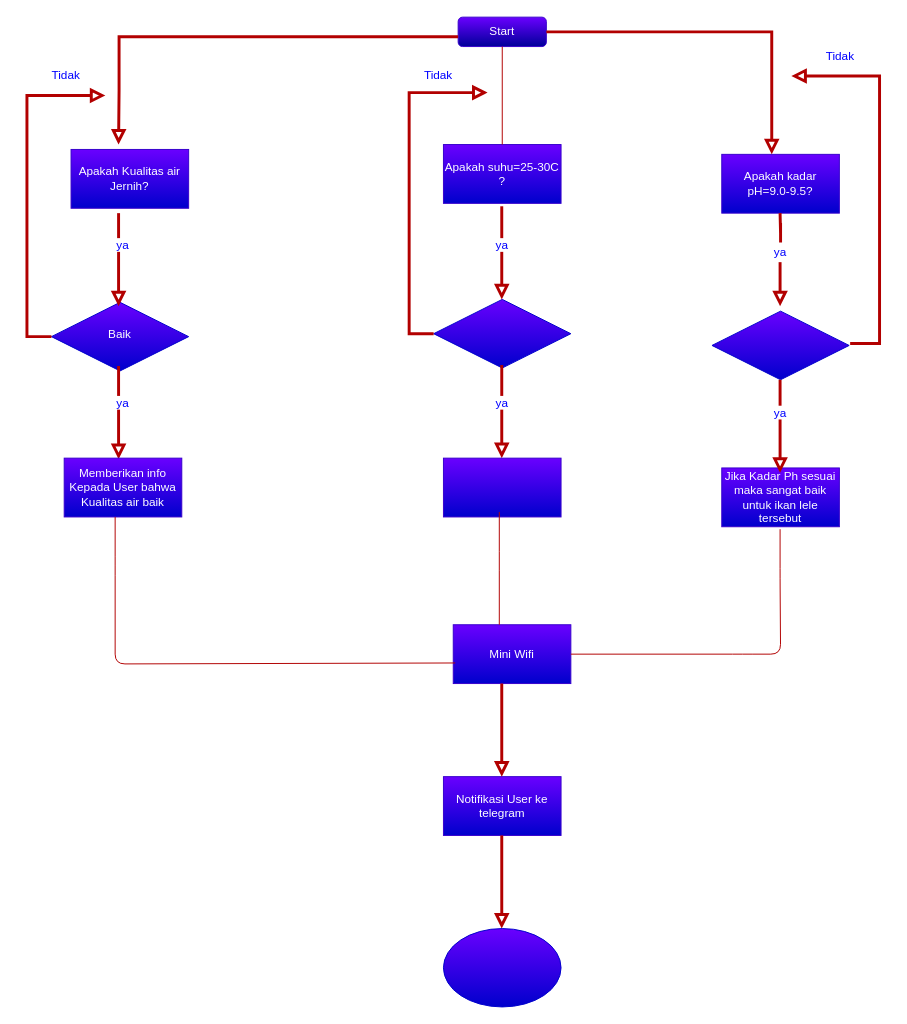
Some shapes in this 907 by 1024 pixel diagram are drawn without their labels. The shapes that lost their labels are listed below. From the top down, each one's box as (x1, y1, x2, y2) in pixels, then its label:
(433, 298, 571, 368): Kurang dari
(711, 310, 849, 380): Sesuai
(442, 457, 561, 517): Mengecek tempratur suhu kurang dari 30C maka suhu tersebut Normal
(442, 928, 561, 1007): End
